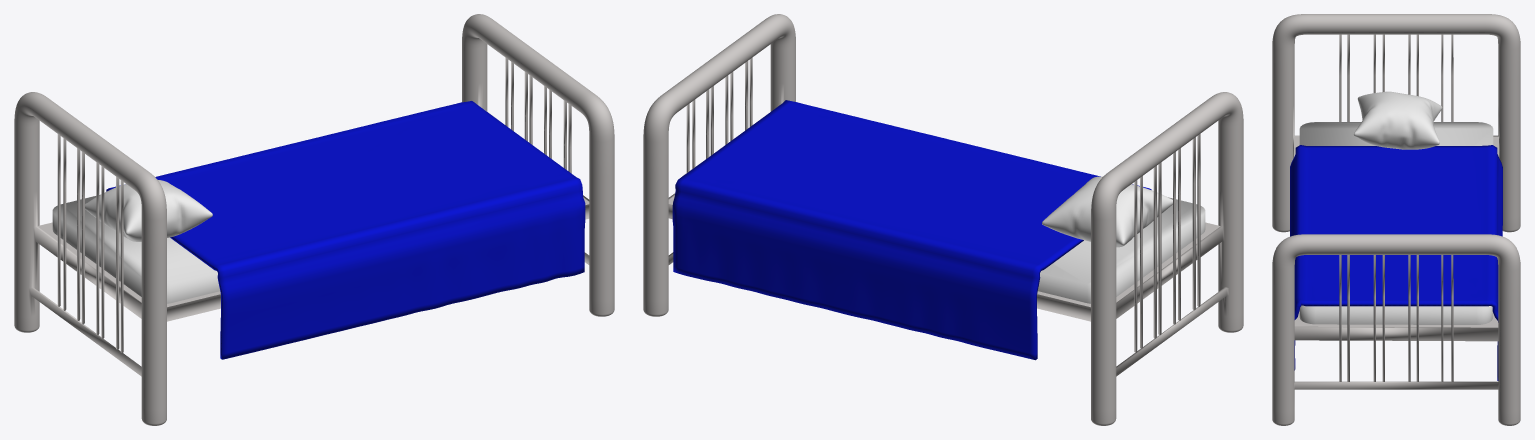
File: Wireframe_Bed(V2.3).fbx
3 renders of one model, left to right at view 1: azimuth 30°, elevation 25°; view 2: azimuth 150°, elevation 25°; view 3: azimuth 270°, elevation 25°, orthographic. The views are drawn at different scales.
Visible parts, largest first — view 1: Sheets, Frame, Matress, Pillow; view 2: Sheets, Frame, Matress, Pillow; view 3: Frame, Sheets, Matress, Pillow.
Boxes of the visible parts, x1=… form: Sheets: x1=106, y1=101, x2=585, y2=359; Frame: x1=14, y1=14, x2=614, y2=425; Matress: x1=52, y1=109, x2=494, y2=303; Pillow: x1=85, y1=180, x2=212, y2=241; Sheets: x1=672, y1=100, x2=1151, y2=360; Frame: x1=643, y1=14, x2=1243, y2=425; Matress: x1=682, y1=164, x2=1205, y2=303; Pillow: x1=1042, y1=176, x2=1172, y2=247; Frame: x1=1272, y1=14, x2=1520, y2=425; Sheets: x1=1290, y1=145, x2=1502, y2=380; Matress: x1=1299, y1=122, x2=1493, y2=324; Pillow: x1=1353, y1=91, x2=1442, y2=149.
Bounding box in the file's own units: 422 × 208 × 218.
